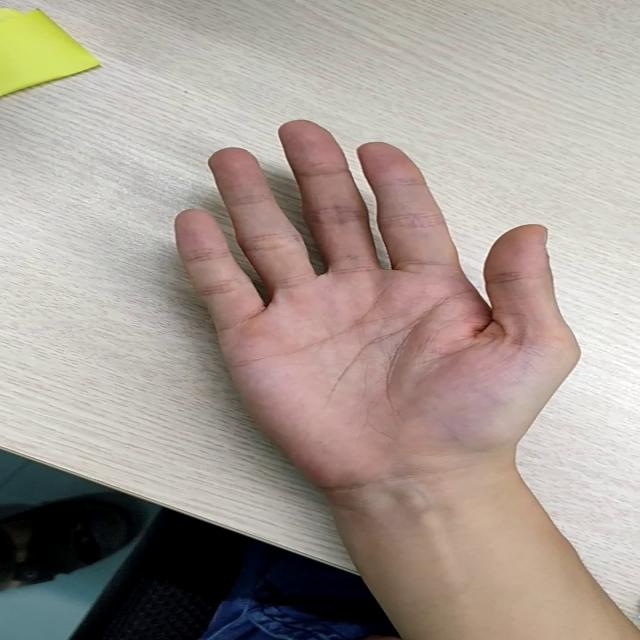hand: (149, 116, 584, 476)
